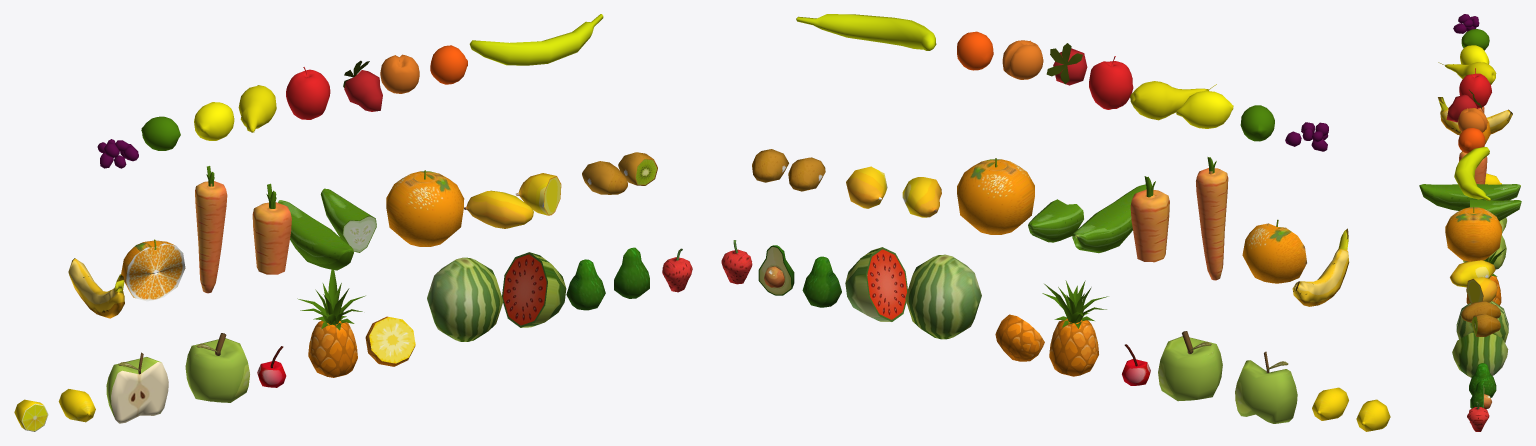
The model's file is Fruits n Vegetables.fbx.
The picture shows the model from 3 angles, left to right: view 1: azimuth 30°, elevation 25°; view 2: azimuth 150°, elevation 25°; view 3: azimuth 270°, elevation 25°; orthographic projection. The views are drawn at different scales.
Parts seen in each view (by area): view 1: water melon, orange, cuted water melon, green apple, pineapple, cuted green apple, half cut orange, carrot, Banana, half cyt carrot, cucmber, half cut cucmber (+20 smaller); view 2: water melon, orange, cuted water melon, green apple, pineapple, cuted green apple, half cut orange, Banana, carrot, half cyt carrot, cucmber, Apple (+20 smaller); view 3: orange, cuted water melon, cucmber, Banana, mango, Apple, bnanna, half cut mango, half cut cucmber, water melon, Pear, Peach (+14 smaller).
Part boxes in pixels (bbox=[...]): water melon: bbox=[427, 257, 503, 341]; orange: bbox=[386, 170, 464, 246]; cuted water melon: bbox=[502, 252, 566, 327]; green apple: bbox=[185, 333, 249, 402]; pineapple: bbox=[297, 269, 365, 377]; cuted green apple: bbox=[106, 352, 168, 423]; half cut orange: bbox=[121, 239, 185, 301]; carrot: bbox=[195, 166, 227, 293]; Banana: bbox=[469, 14, 603, 65]; half cyt carrot: bbox=[252, 183, 291, 274]; cucmber: bbox=[278, 200, 353, 270]; half cut cucmber: bbox=[320, 188, 376, 252]; water melon: bbox=[905, 254, 981, 339]; orange: bbox=[957, 158, 1034, 234]; cuted water melon: bbox=[845, 247, 907, 321]; green apple: bbox=[1158, 331, 1222, 401]; pineapple: bbox=[1042, 280, 1108, 376]; cuted green apple: bbox=[1235, 351, 1297, 423]; half cut orange: bbox=[1242, 219, 1306, 283]; Banana: bbox=[796, 14, 936, 50]; carrot: bbox=[1196, 157, 1228, 280]; half cyt carrot: bbox=[1130, 176, 1169, 262]; cucmber: bbox=[1072, 184, 1146, 253]; Apple: bbox=[1089, 56, 1133, 109]; orange: bbox=[1445, 206, 1501, 261]; cuted water melon: bbox=[1452, 332, 1508, 377]; cucmber: bbox=[1419, 184, 1520, 210]; Banana: bbox=[1454, 147, 1490, 201]; mango: bbox=[1450, 260, 1495, 287]; Apple: bbox=[1459, 68, 1491, 108]; bnanna: bbox=[1438, 97, 1512, 135]; half cut mango: bbox=[1466, 277, 1497, 303]; half cut cucmber: bbox=[1470, 199, 1521, 221]; water melon: bbox=[1456, 301, 1508, 342]; Pear: bbox=[1438, 62, 1496, 84]; Peach: bbox=[1457, 108, 1487, 132].
Bounding box in the file's own units: 581 × 269 × 106.
Materials: 11 (1 with a texture image).
